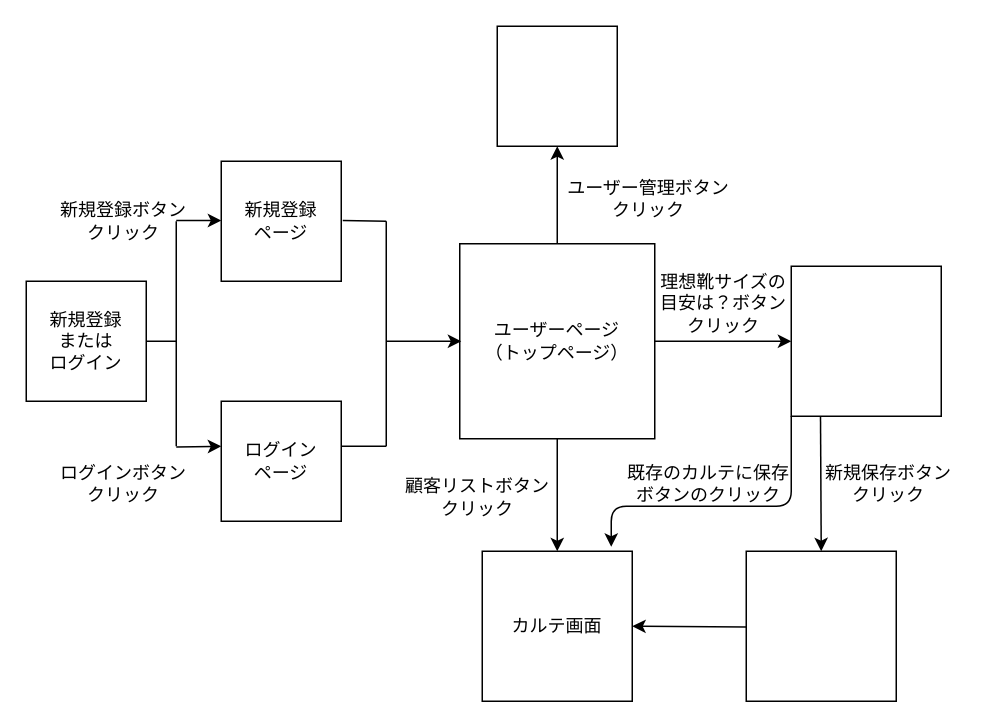
The diagram is 998 pixels wide and 728 high, and some of its shapes have lost their labels. Each missing label, with the centre of its shape:
ユーザー管理 画面: point (556, 85)
新規登録 カルテ画面: point (820, 625)
理想の靴サイズ 表示画面: point (865, 340)
